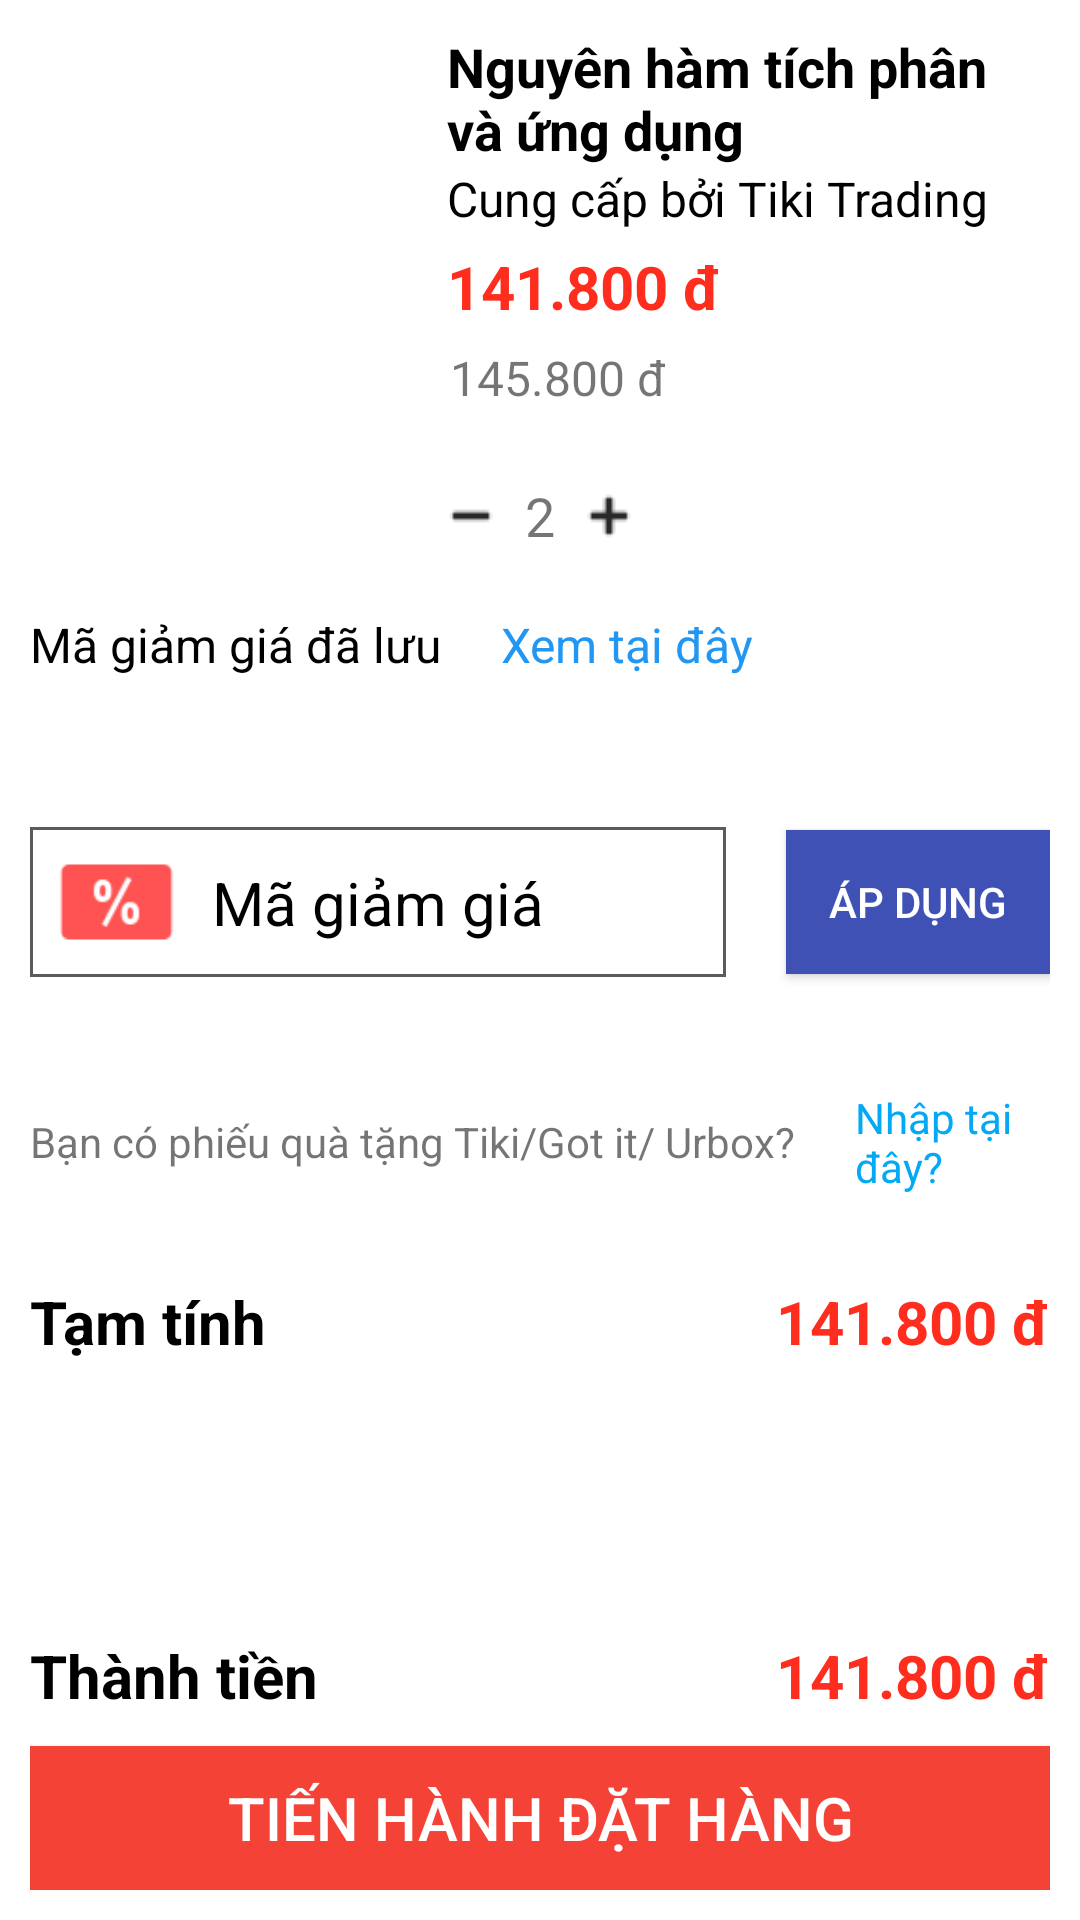

Icons on this 1080 x 1920 Android screen, each with the point to tap as point (x, y):
coupon: point (116, 902)
plus: point (609, 515)
subtract: point (471, 516)
